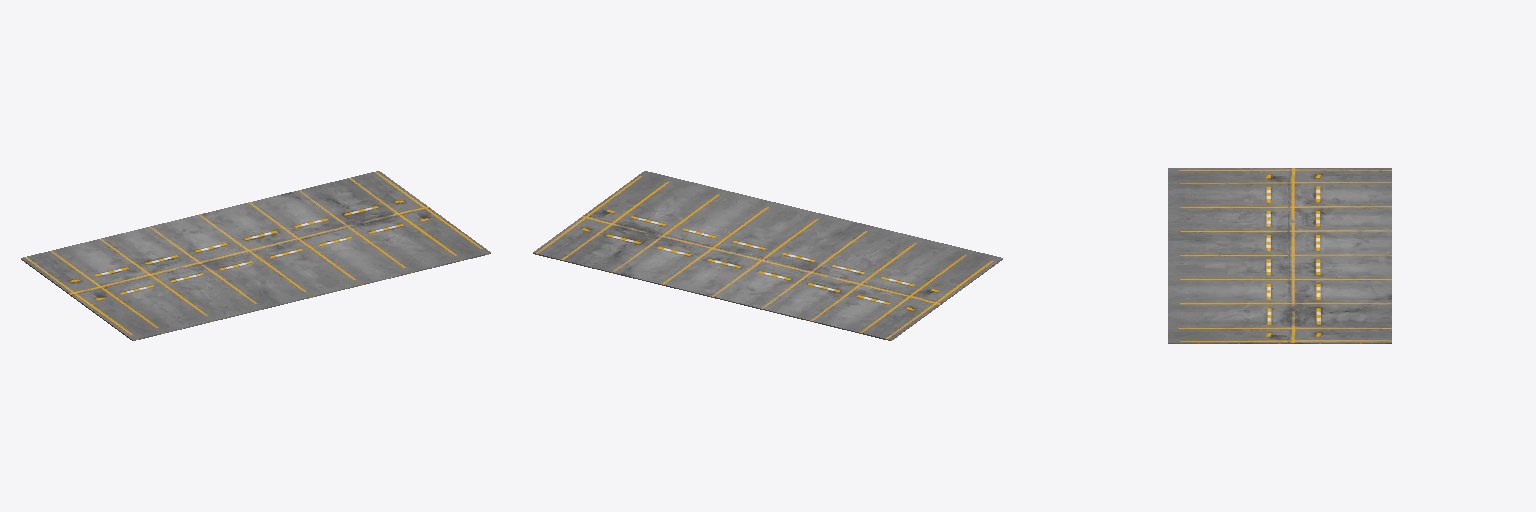
3 views of the same model, side by side, from view 1: azimuth 30°, elevation 25°; view 2: azimuth 150°, elevation 25°; view 3: azimuth 270°, elevation 25° (orthographic).
Visible parts, largest first — view 1: Box001; view 2: Box001; view 3: Box001.
Part boxes in pixels (x1,y1,x2,y2): Box001: (21, 171, 490, 340); Box001: (533, 171, 1002, 340); Box001: (1168, 168, 1391, 343).
Size of the model in its own units: 159 by 0.4839 by 86.44.
Materials: 1 (1 with a texture image).